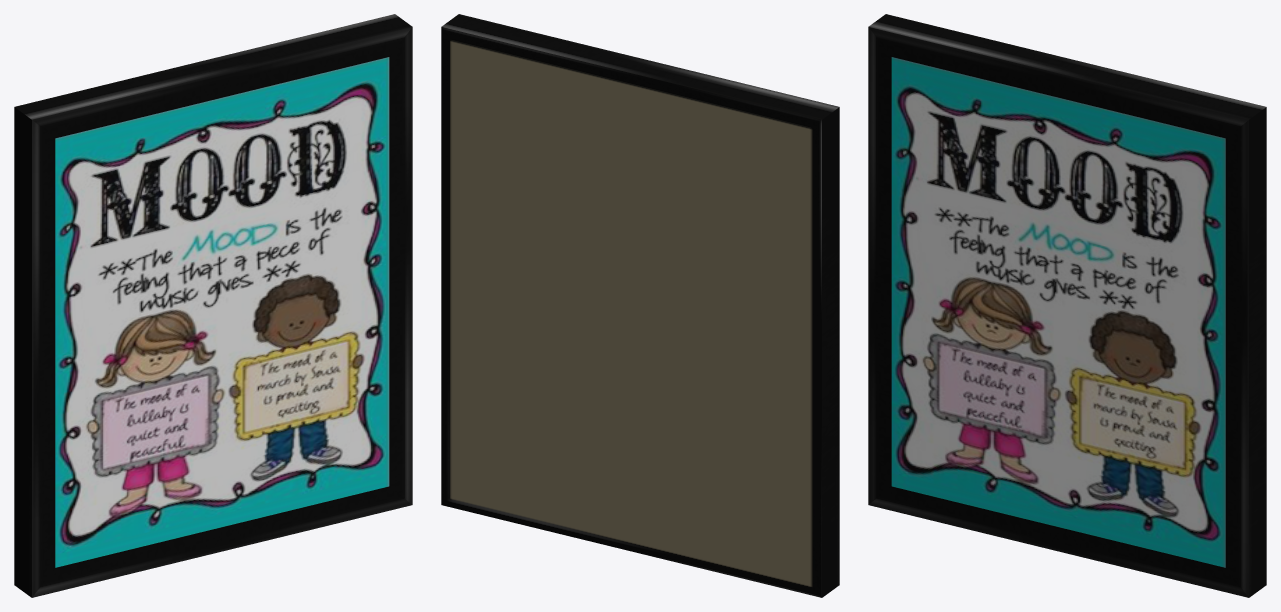
The model's file is poster5.FBX.
3 renders of one model, left to right at view 1: azimuth 30°, elevation 25°; view 2: azimuth 150°, elevation 25°; view 3: azimuth 330°, elevation 25°, orthographic.
Visible parts, largest first — view 1: poster5; view 2: poster5; view 3: poster5.
Part boxes in pixels (<box>): poster5: <box>14,14,412,597</box>; poster5: <box>441,14,839,597</box>; poster5: <box>868,14,1266,597</box>.
Bounding box in the file's own units: 5 × 6 × 0.4.
